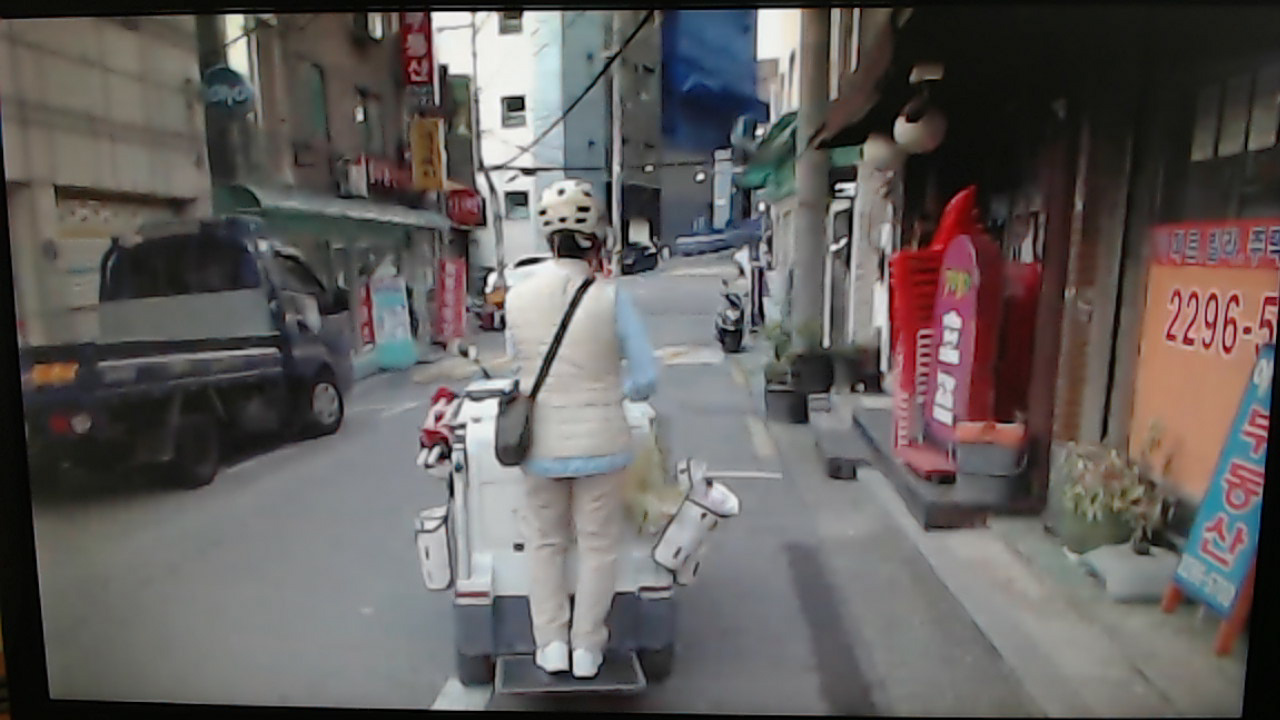Yakurut: (470, 176, 696, 704)
